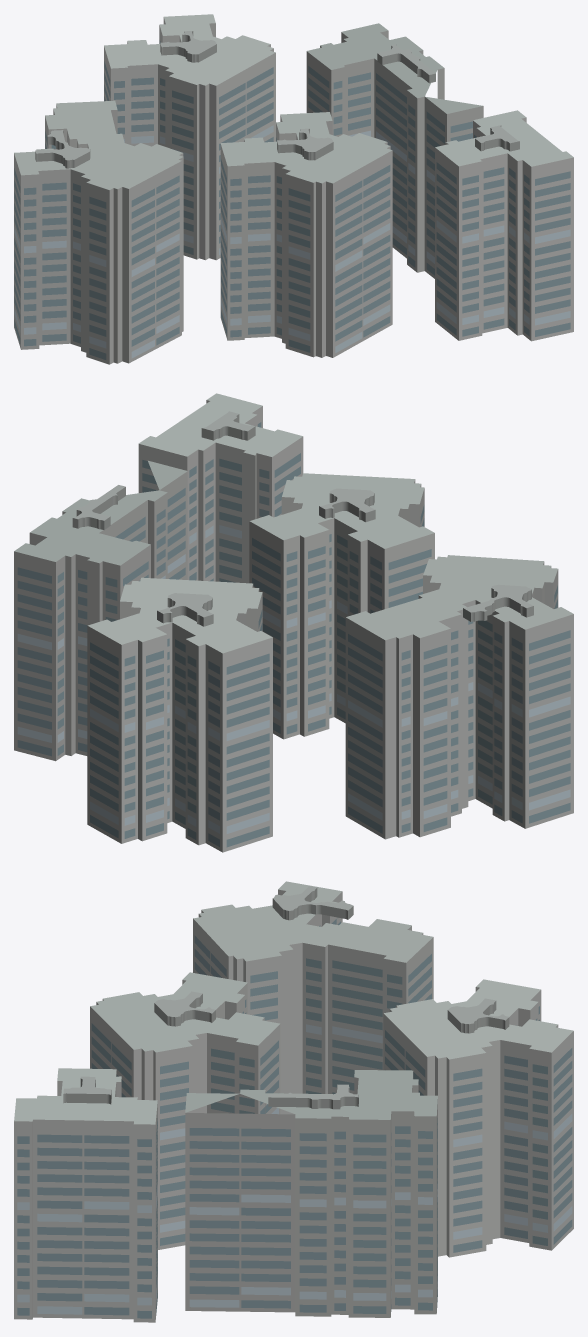
Rendered from apt-a10024443.glb.
3 views of the same model, one above another, from view 1: azimuth 30°, elevation 25°; view 2: azimuth 150°, elevation 25°; view 3: azimuth 270°, elevation 25° (orthographic). The views are drawn at different scales.
Parts seen in each view (by area): view 1: apt-a10024443; view 2: apt-a10024443; view 3: apt-a10024443.
Part boxes in pixels (x1=…): apt-a10024443: x1=14, y1=14, x2=573, y2=364; apt-a10024443: x1=14, y1=393, x2=573, y2=852; apt-a10024443: x1=14, y1=881, x2=573, y2=1322.
Bounding box in the file's own units: 106 × 42 × 103.
